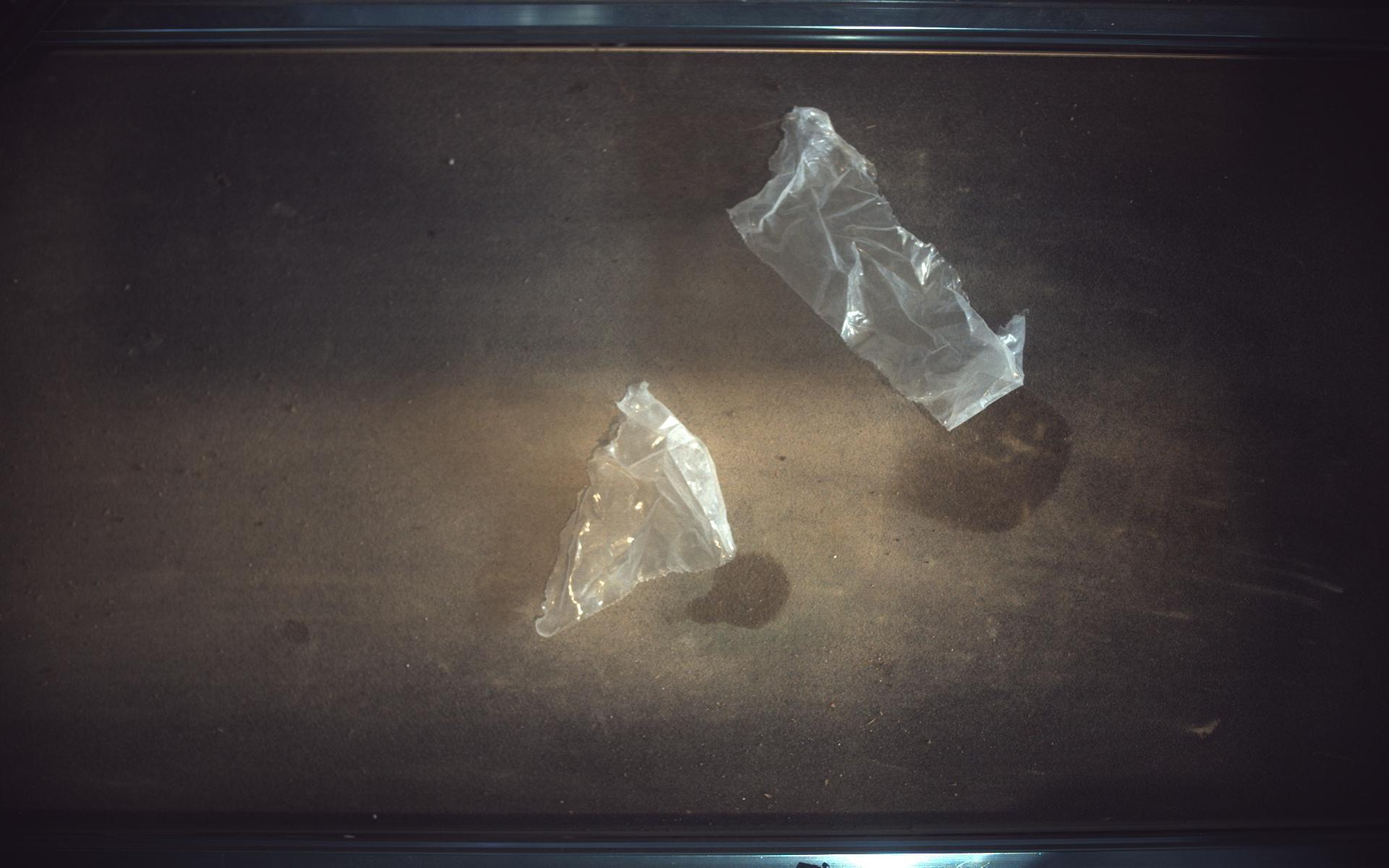general_w: (732, 106, 1027, 430), (536, 382, 736, 637)
